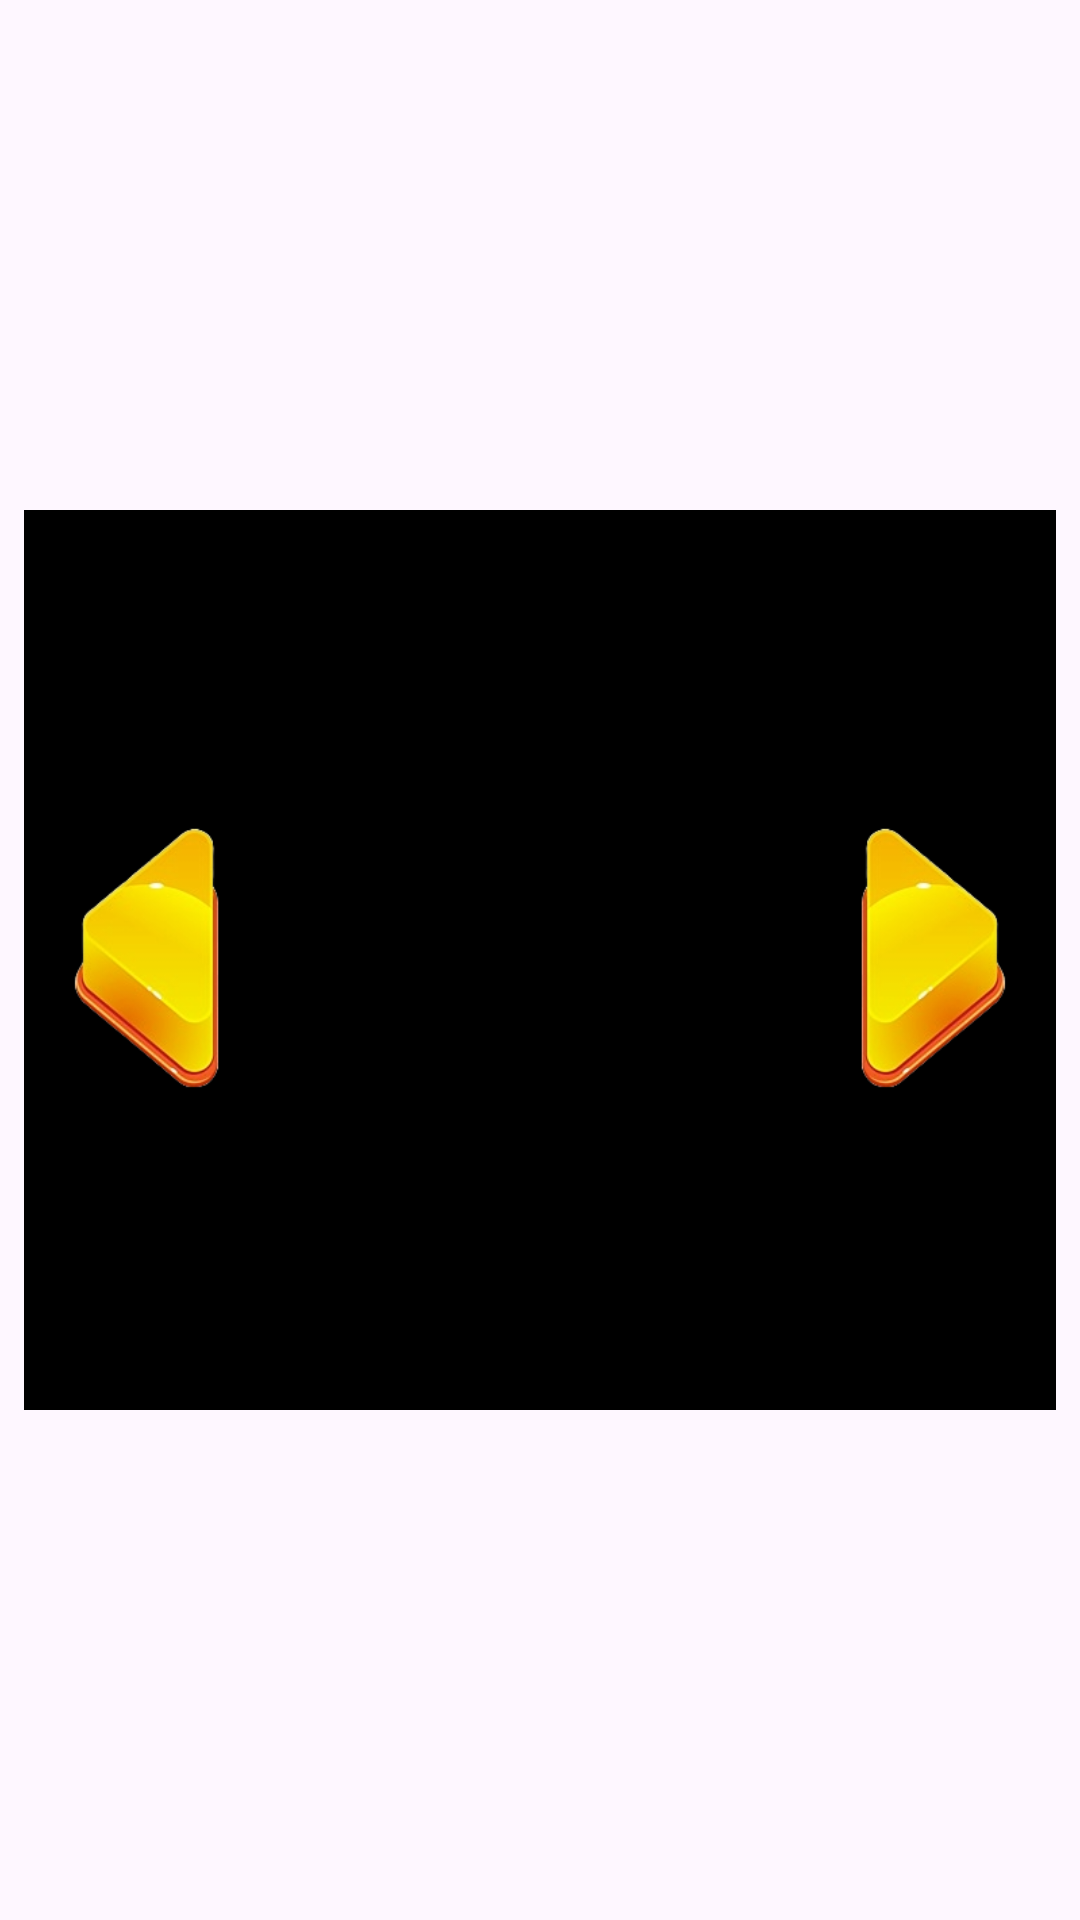

Screen size 1080x1920. Icon name, then its center in pixels as (x,y):
left: (146,957)
right: (933,957)
